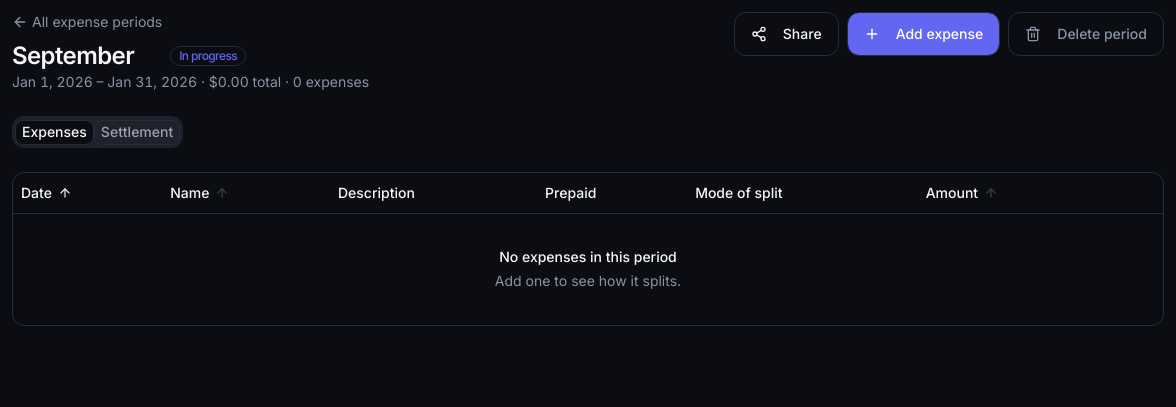
checklist: expenses › rejects renaming a period to a name another period already uses
Click the button "September" at (85, 56), box [12, 40, 158, 72]
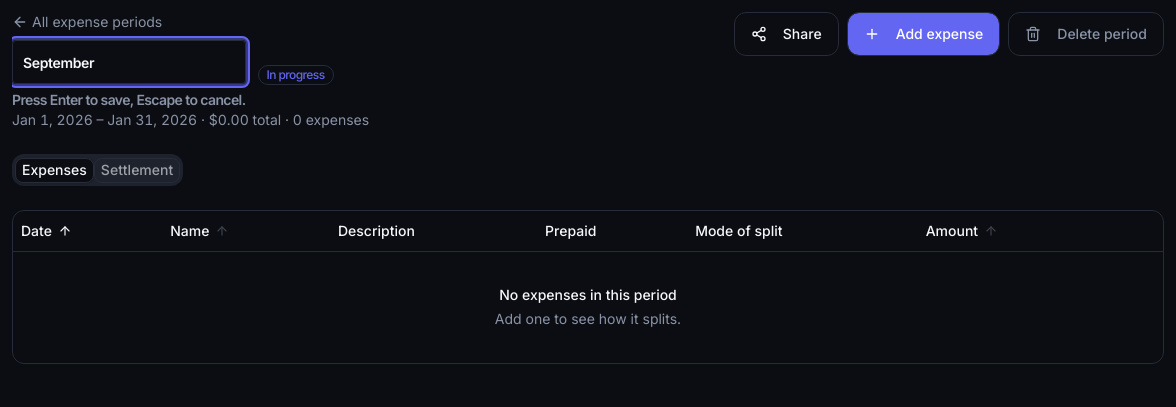
Replace the text in the field named "expense period name" with "January" at (129, 62), box [12, 40, 246, 84]
Then press Enter
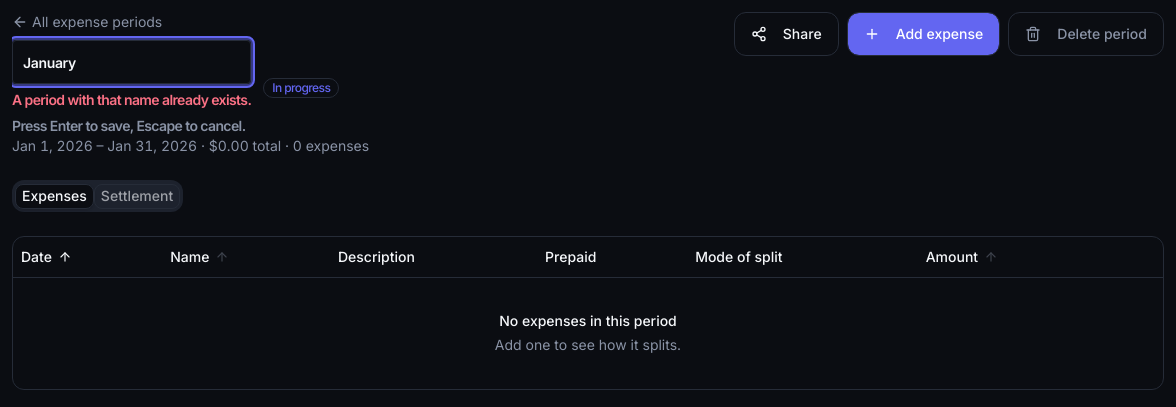
Check: the text "A period with that name already exists." is shown, box [12, 90, 251, 110]
